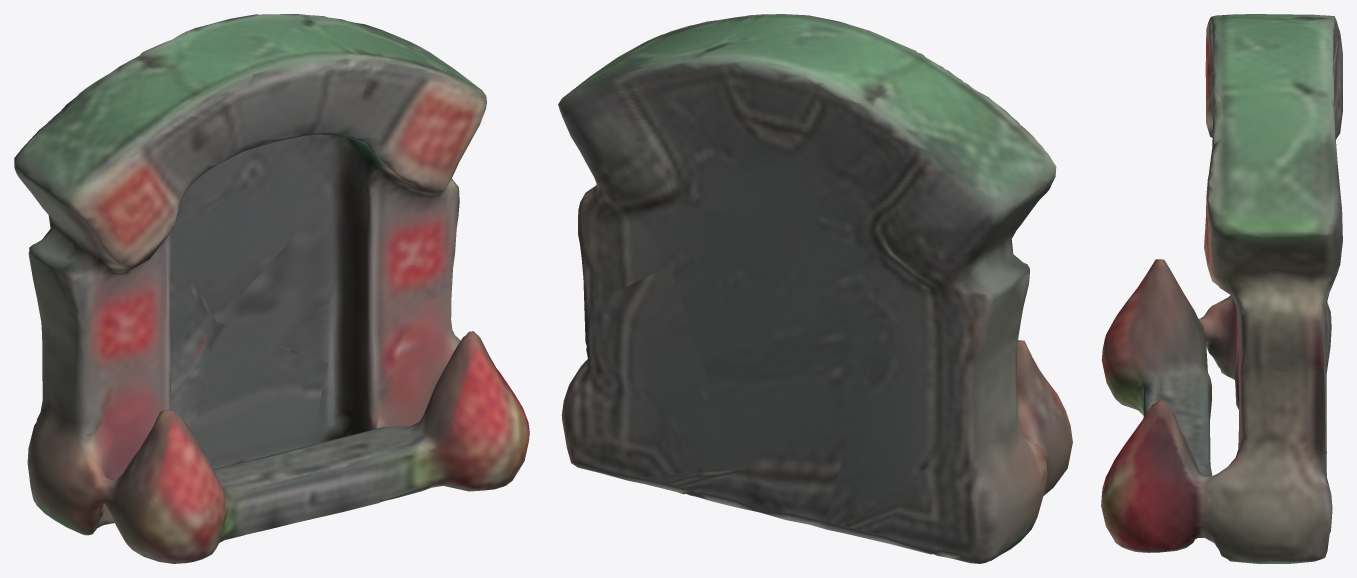
The model's file is CF_ExitClosed.fbx.
3 views of the same model, side by side, from view 1: azimuth 30°, elevation 25°; view 2: azimuth 150°, elevation 25°; view 3: azimuth 270°, elevation 25° (orthographic). The views are drawn at different scales.
Parts seen in each view (by area): view 1: CF_ExitClosed; view 2: CF_ExitClosed; view 3: CF_ExitClosed.
Boxes of the visible parts, x1,y1,x2,y2 form: CF_ExitClosed: (14, 14, 529, 563); CF_ExitClosed: (558, 14, 1072, 563); CF_ExitClosed: (1101, 14, 1342, 563).
Bounding box in the file's own units: 9 × 8.59 × 4.44.
